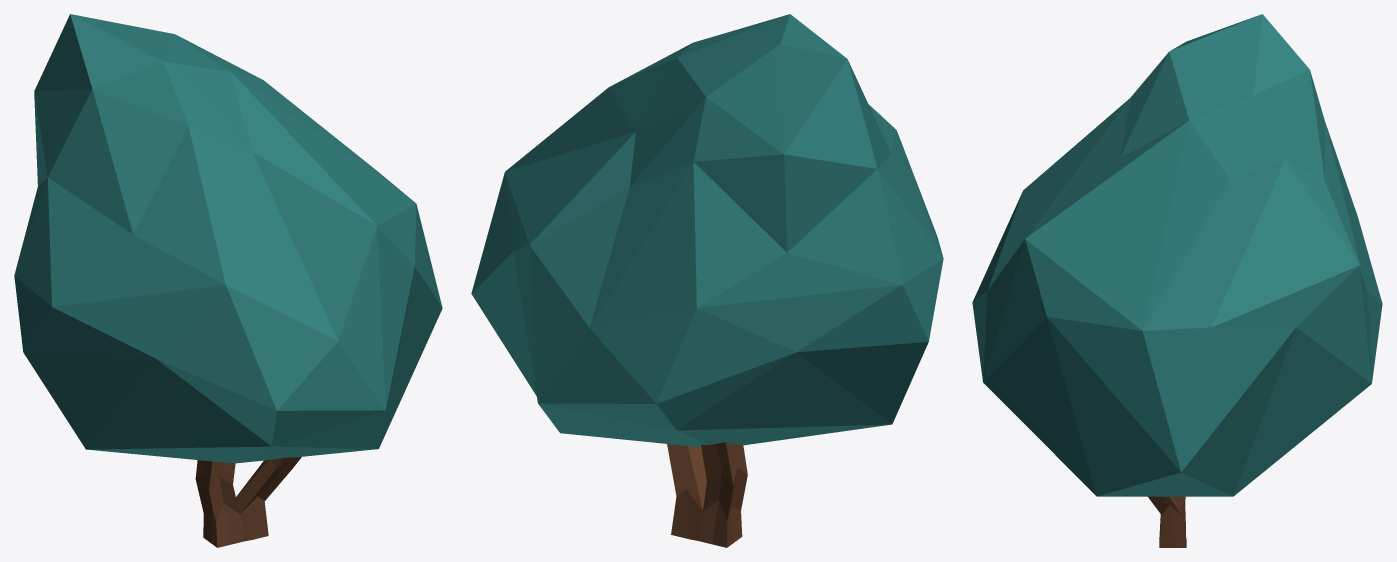
File: Tree_49_Blue.fbx
3 views of the same model, side by side, from view 1: azimuth 30°, elevation 25°; view 2: azimuth 150°, elevation 25°; view 3: azimuth 270°, elevation 25° (orthographic). The views are drawn at different scales.
Visible parts, largest first — view 1: Tree_49_Blue_Part_1, Tree_49_Blue_Part_2; view 2: Tree_49_Blue_Part_1, Tree_49_Blue_Part_2; view 3: Tree_49_Blue_Part_1, Tree_49_Blue_Part_2.
Part boxes in pixels (bbox=[...]): Tree_49_Blue_Part_1: bbox=[14, 14, 442, 463]; Tree_49_Blue_Part_2: bbox=[195, 457, 301, 547]; Tree_49_Blue_Part_1: bbox=[471, 14, 943, 447]; Tree_49_Blue_Part_2: bbox=[667, 442, 747, 547]; Tree_49_Blue_Part_1: bbox=[972, 14, 1382, 496]; Tree_49_Blue_Part_2: bbox=[1148, 496, 1186, 547].
Size of the model in its own units: 654 by 768 by 606.
